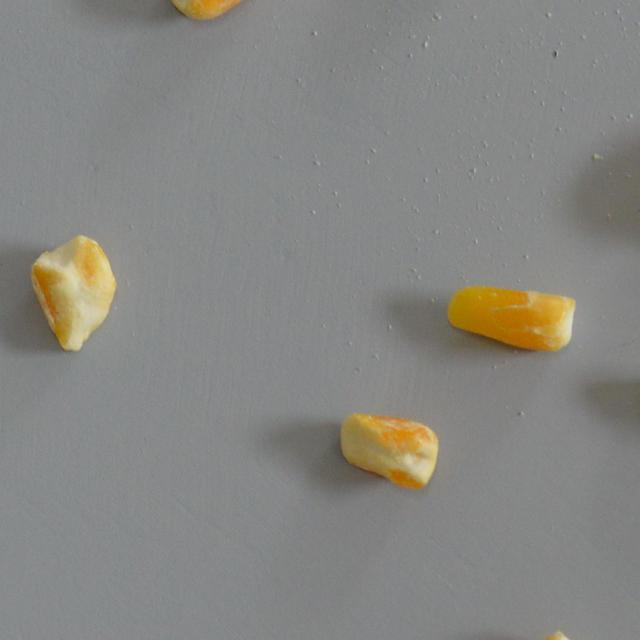dañado: (25, 229, 122, 354), (444, 280, 582, 360), (336, 407, 442, 496), (475, 626, 588, 640)
punto_negro: (164, 0, 293, 23)
